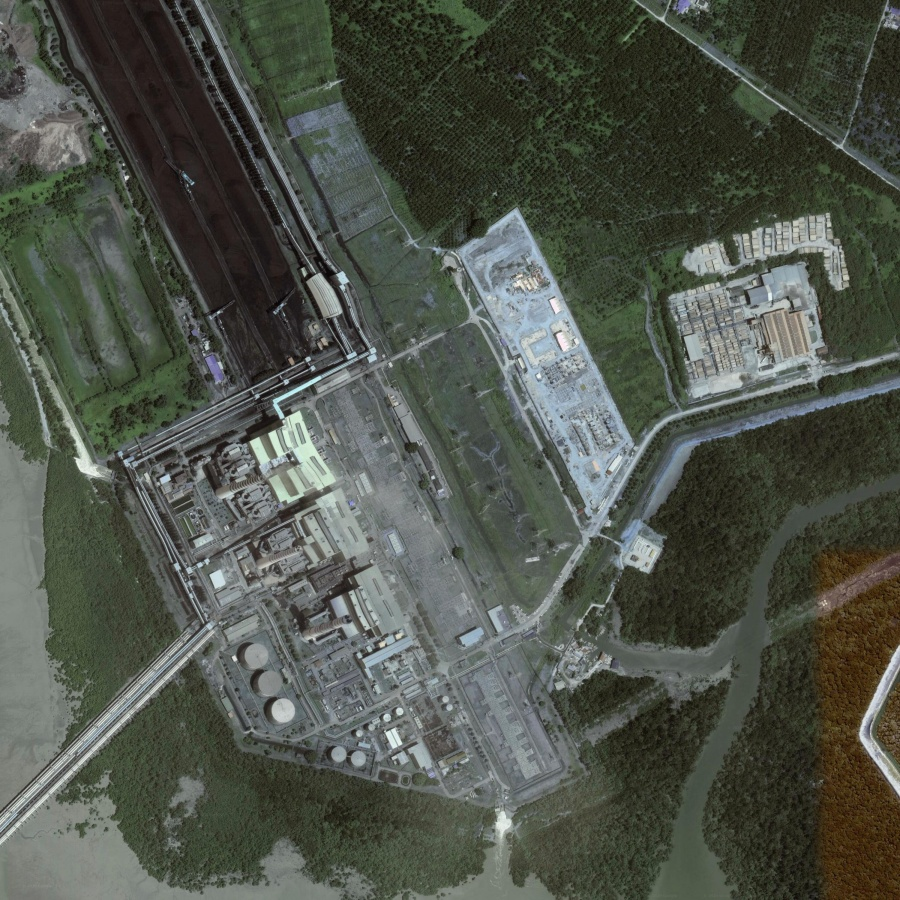PowerPlant: (140, 425, 505, 787)
